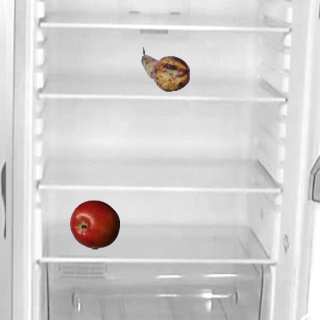Apple Braeburn: (69, 199, 119, 249)
Pear Abate: (140, 44, 190, 94)
